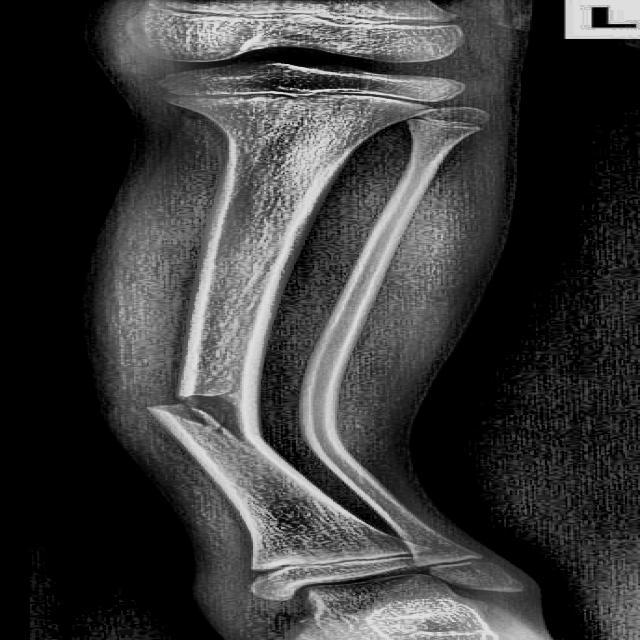fracture: (143, 383, 268, 445)
